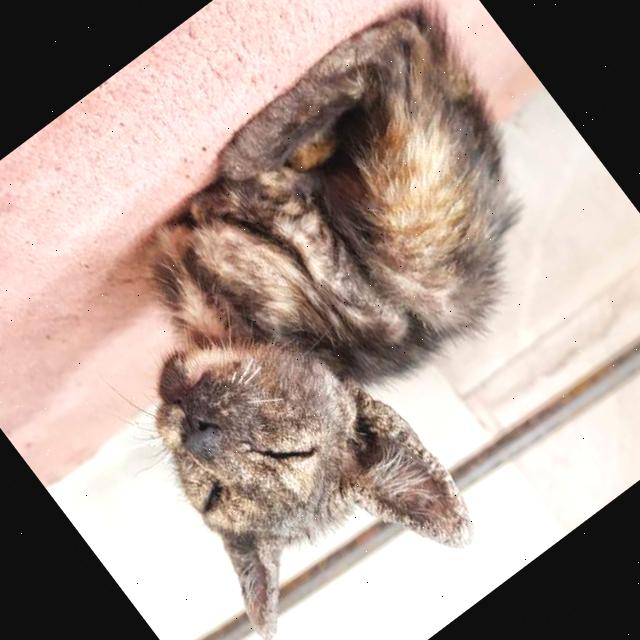cat-scabies: (78, 255, 501, 640)
